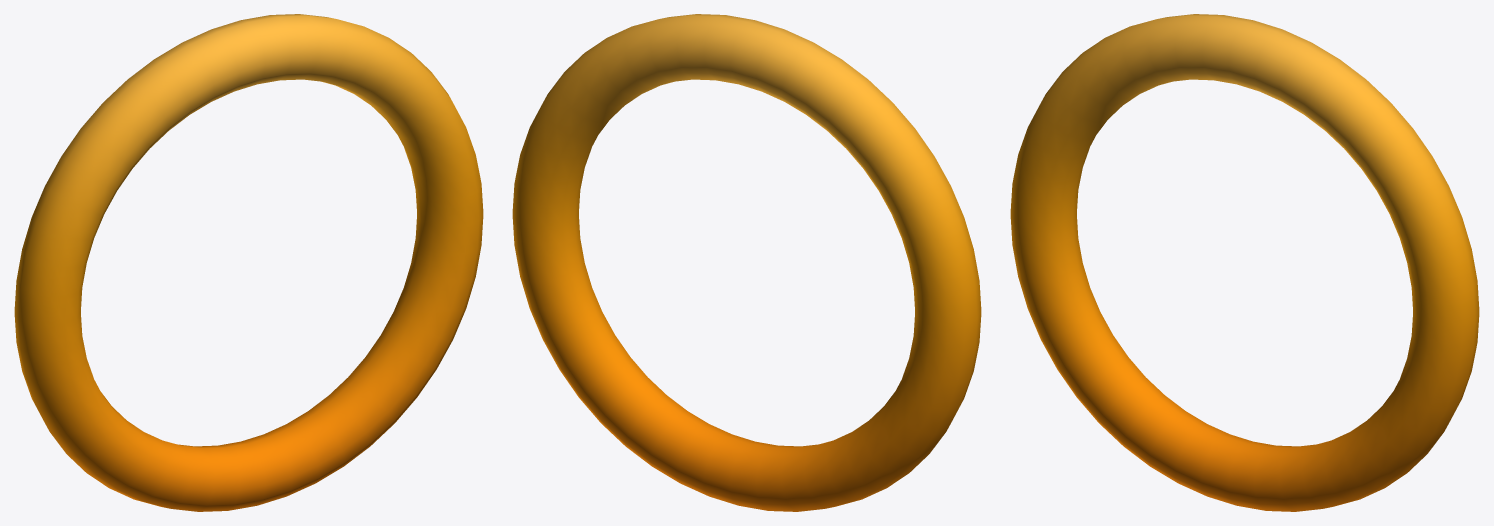
3 views of the same model, side by side, from view 1: azimuth 30°, elevation 25°; view 2: azimuth 150°, elevation 25°; view 3: azimuth 330°, elevation 25° (orthographic).
Parts seen in each view (by area): view 1: Circle_01; view 2: Circle_01; view 3: Circle_01.
Boxes of the visible parts, <box> form: Circle_01: <box>14,14,483,511</box>; Circle_01: <box>512,14,981,511</box>; Circle_01: <box>1010,14,1479,511</box>.
Bounding box in the file's own units: 1023 × 128 × 1023.
